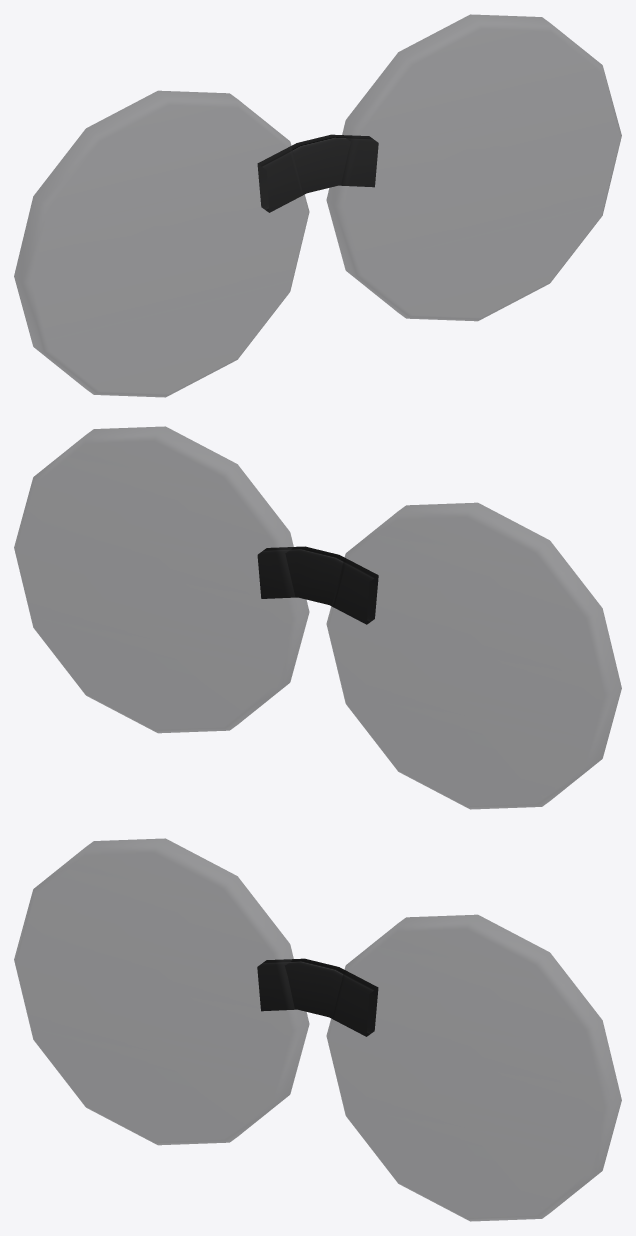
The model's file is Glasses_02.glb.
The picture shows the model from 3 angles, top to bottom: view 1: azimuth 30°, elevation 25°; view 2: azimuth 150°, elevation 25°; view 3: azimuth 330°, elevation 25°; orthographic projection.
Visible parts, largest first — view 1: Glasses_02; view 2: Glasses_02; view 3: Glasses_02.
Part boxes in pixels (x1=…): Glasses_02: x1=14, y1=14, x2=621, y2=397; Glasses_02: x1=14, y1=426, x2=621, y2=809; Glasses_02: x1=14, y1=838, x2=621, y2=1221.
Bounding box in the file's own units: 0.445 × 0.2133 × 0.0208.
Materials: 2 (2 with a texture image).
